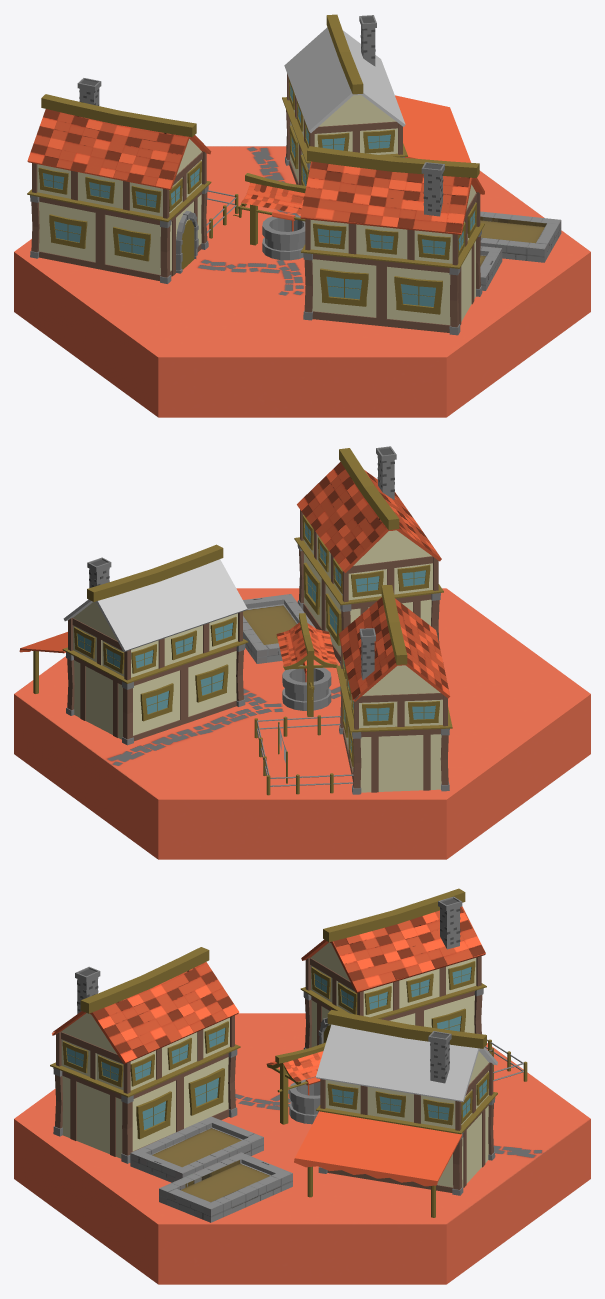
The model's file is Tuile_Village_N4.fbx.
3 views of the same model, one above another, from view 1: azimuth 30°, elevation 25°; view 2: azimuth 150°, elevation 25°; view 3: azimuth 270°, elevation 25° (orthographic).
Parts seen in each view (by area): view 1: CHEMIN, toit.001, toit.004, base House.003, base House.001, toit.005, Plane.002, windows bas.003, Cube.002, etage.004, etage.005, etage.001 (+22 smaller); view 2: CHEMIN, toit.005, base House.002, toit.001, toit.004, base House.001, etage.001, etage.005, Cube.015, etage.004, poutre toit.002, base House.003 (+24 smaller); view 3: CHEMIN, Plane.002, toit.001, toit.005, base House.003, toit.004, Cube.002, Cube.015, etage.001, etage.004, etage.005, windows bas.003 (+26 smaller).
Boxes of the visible parts, box(x1,y1,x2,y2) form: CHEMIN: box(14, 146, 590, 417); toit.001: box(300, 161, 484, 234); toit.004: box(27, 109, 211, 190); base House.003: box(312, 241, 475, 332); base House.001: box(39, 192, 201, 280); toit.005: box(284, 27, 405, 132); Plane.002: box(395, 95, 471, 162); windows bas.003: box(320, 268, 442, 314); Cube.002: box(480, 211, 561, 262); etage.004: box(37, 139, 202, 216); etage.005: box(294, 95, 397, 154); etage.001: box(310, 184, 476, 263); CHEMIN: box(14, 588, 590, 859); toit.005: box(63, 559, 247, 651); base House.002: box(73, 646, 236, 741); toit.001: box(297, 462, 441, 572); toit.004: box(338, 597, 450, 701); base House.001: box(343, 725, 441, 792); etage.001: box(303, 530, 433, 600); etage.005: box(72, 602, 237, 677); Cube.015: box(243, 594, 315, 663); etage.004: box(346, 665, 442, 728); poutre toit.002: box(87, 544, 223, 601); base House.003: box(303, 553, 431, 663); CHEMIN: box(14, 1013, 590, 1284); Plane.002: box(294, 1111, 462, 1186); toit.001: box(52, 962, 239, 1064); toit.005: box(316, 1024, 497, 1102); base House.003: box(62, 1053, 228, 1158); toit.004: box(301, 906, 485, 993); Cube.002: box(159, 1152, 292, 1222); Cube.015: box(130, 1116, 263, 1182); etage.001: box(61, 1013, 229, 1090); etage.004: box(310, 942, 476, 1017); etage.005: box(325, 1051, 489, 1128); windows bas.003: box(136, 1068, 224, 1139).
Size of the model in its own units: 107 by 51.67 by 124.
